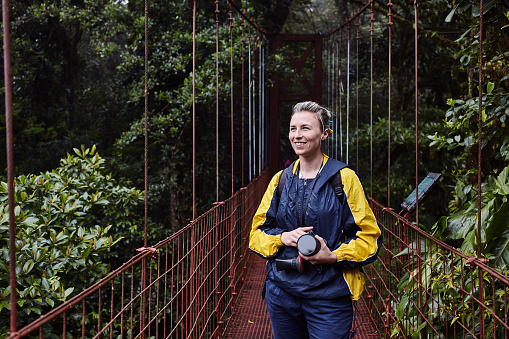em pe: (236, 94, 363, 339)
